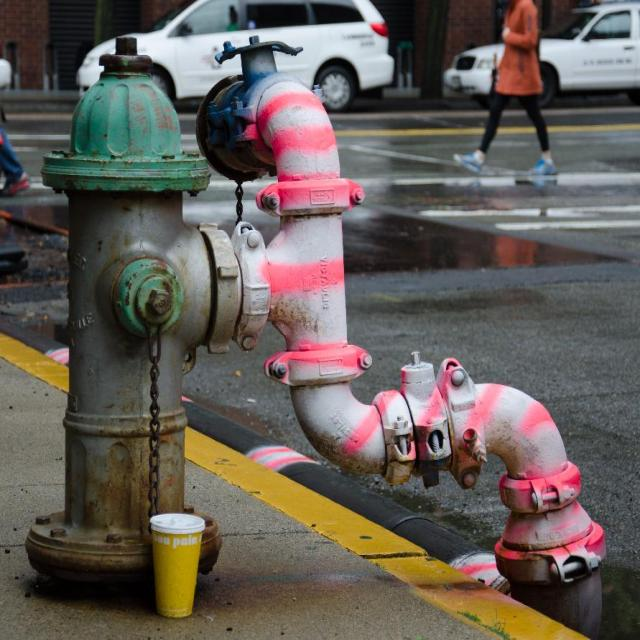fire_hydrant: (23, 36, 240, 588)
